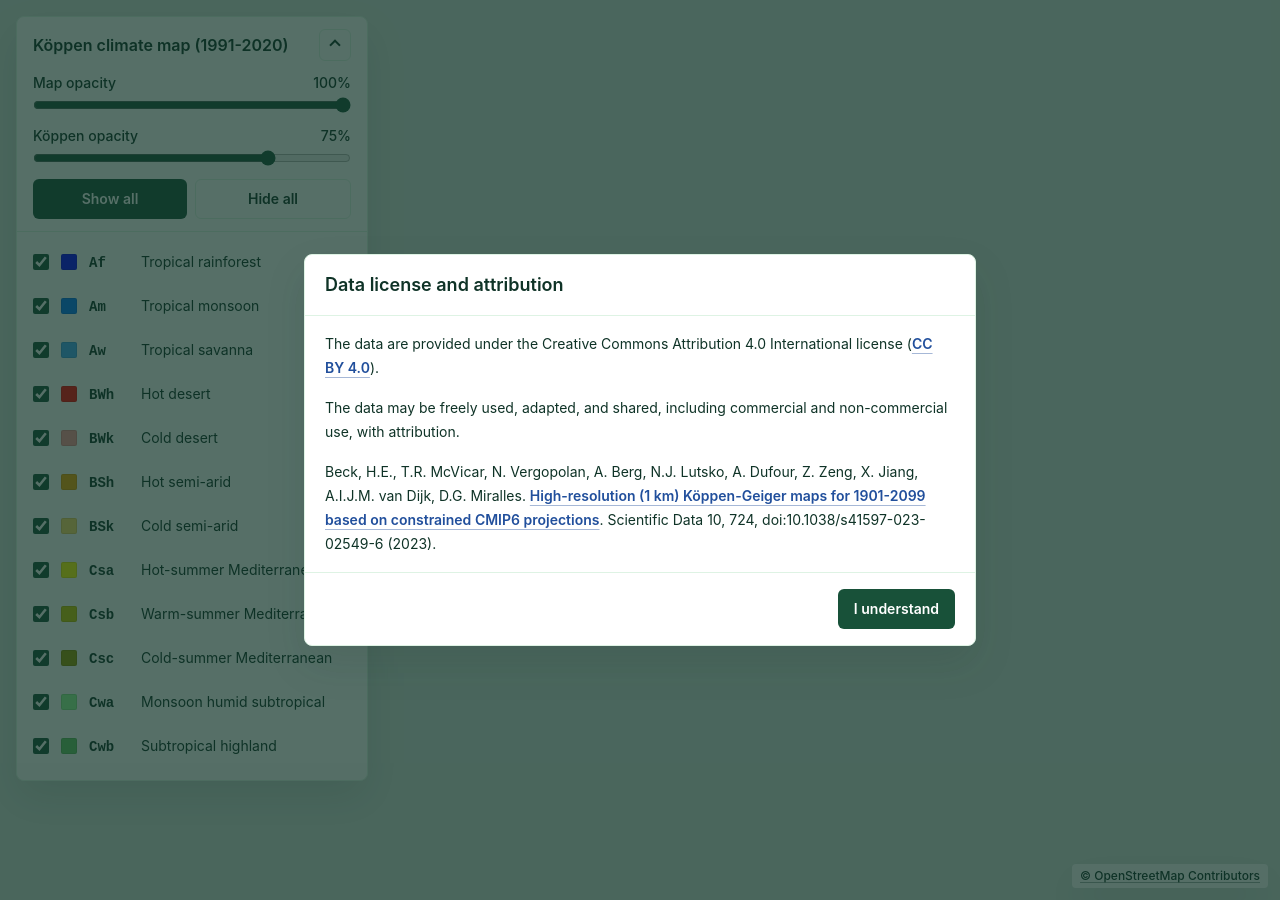
Test: App › dismisses the data license notice and stores the acknowledgement
Click the button with aria-label "acknowledge data license notice".
click(896, 609)  # box [838,589,955,629]
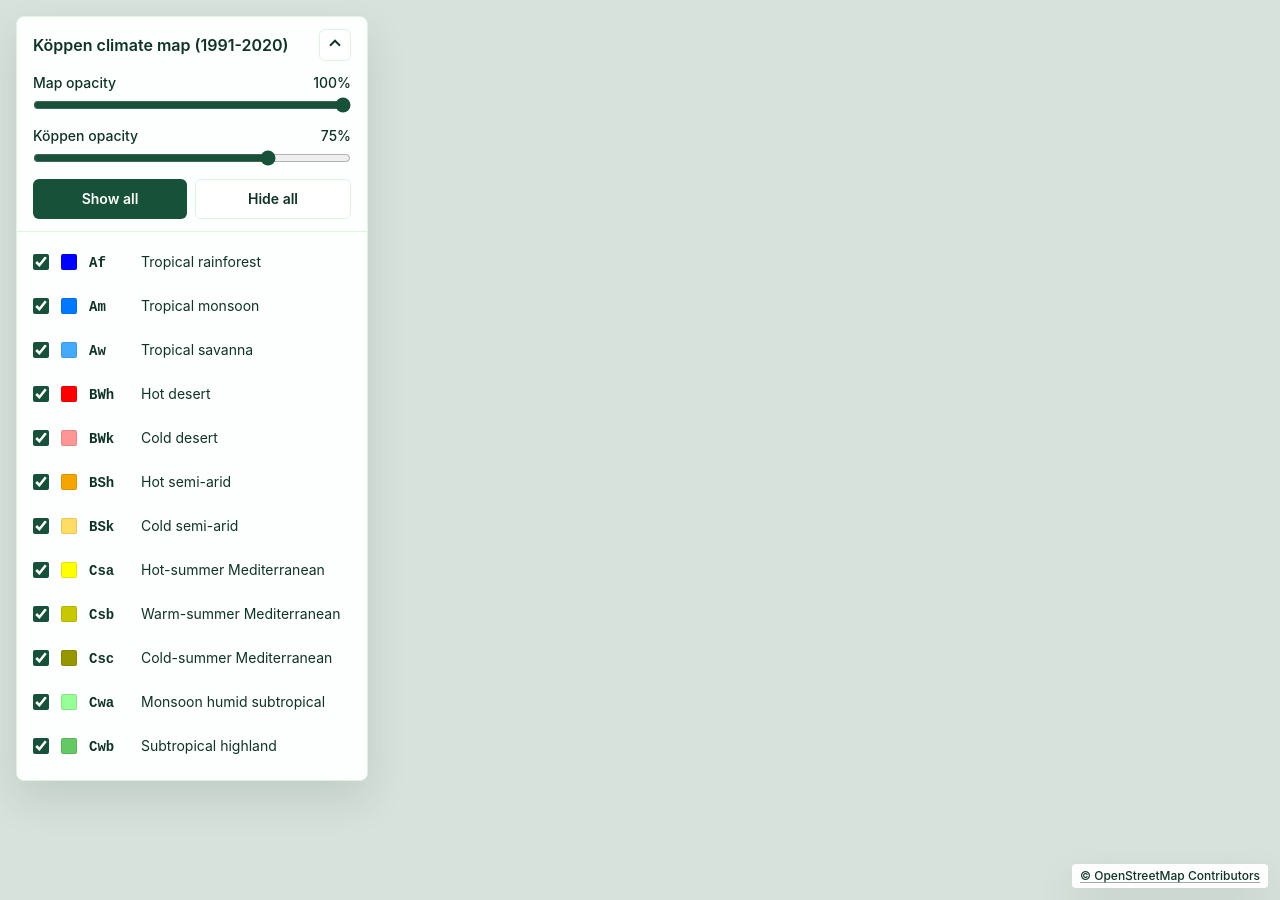
Now the heading "Data license and attribution" is gone
